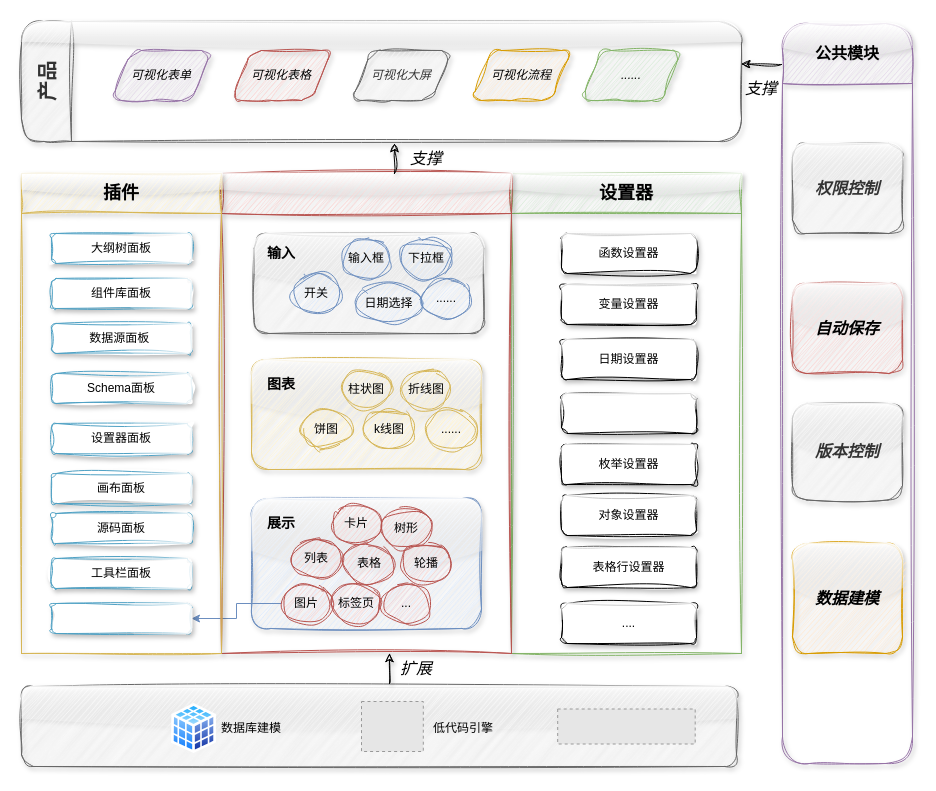
Image size: 936x791. Some labels were removed from this diagram. Grey dashed boxes stand in for pictures. Here are the shapes that lost their labels. From the top down, the centre of each, then its label:
[367,414]: 物料
[629,414]: 节点设置器
[122,619]: 文档面板
